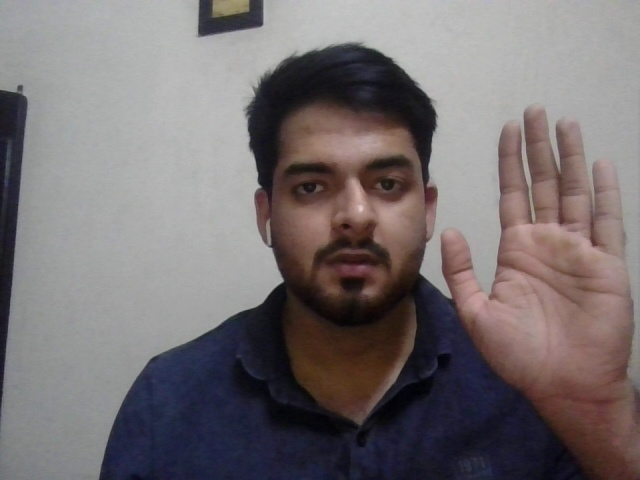hello: (442, 98, 639, 427)
